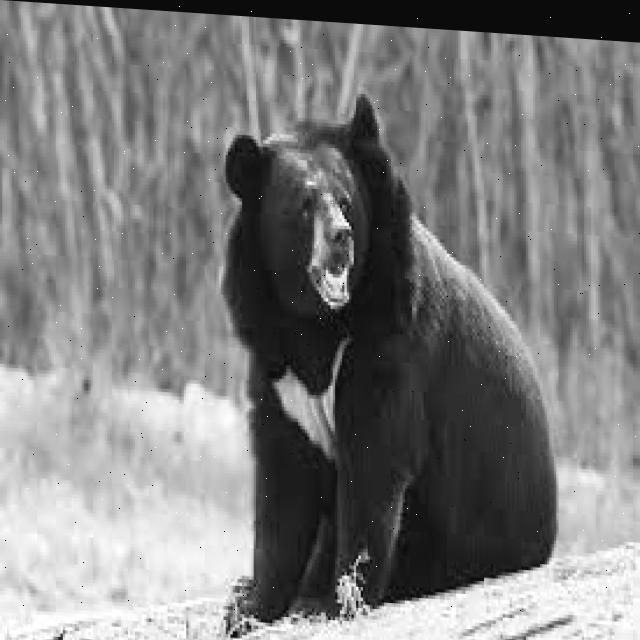Bear: (225, 85, 555, 639)
